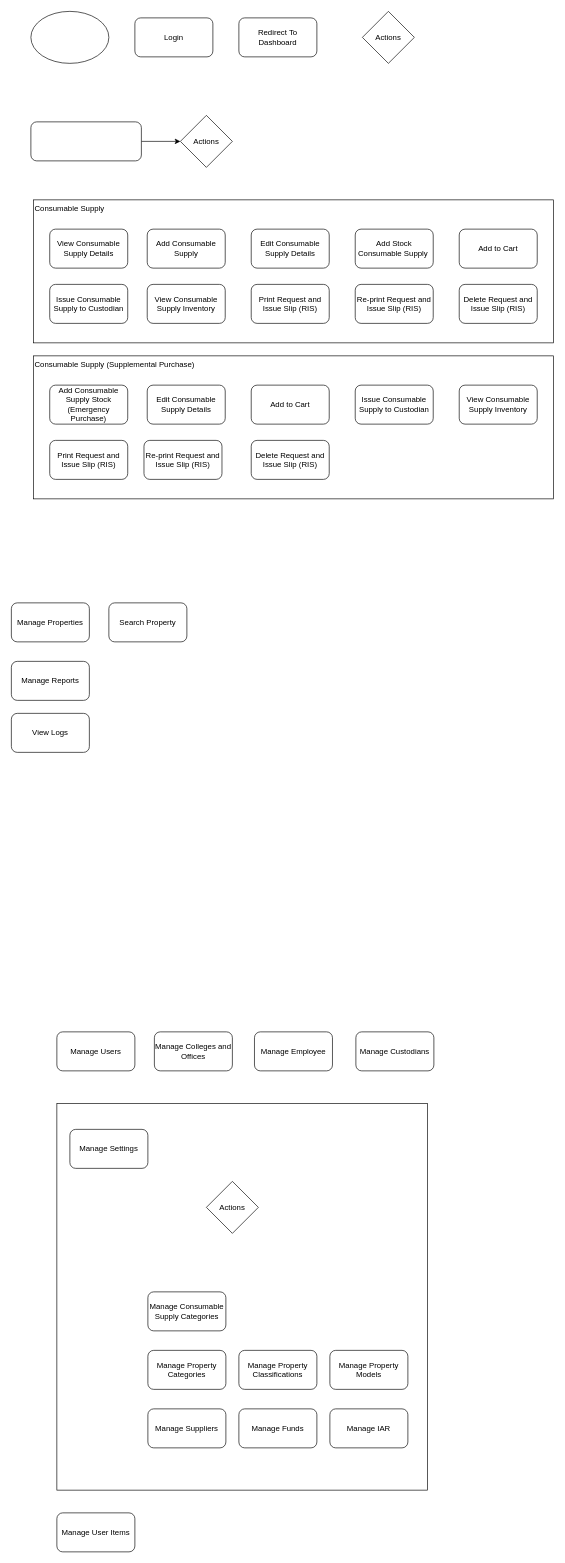
The diagram is 565 pixels wide and 1563 high, and some of its shapes have lost their labels. The shapes that lost their labels are listed below. From the top down, each one's centre as x and y in pixels, then its label:
(69,37): Start
(85,141): Manage Consumable Supplies
